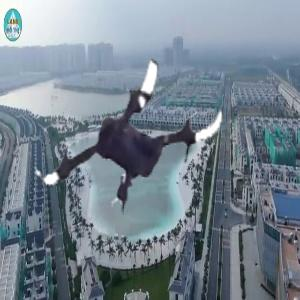drone: (30, 30, 231, 231)
